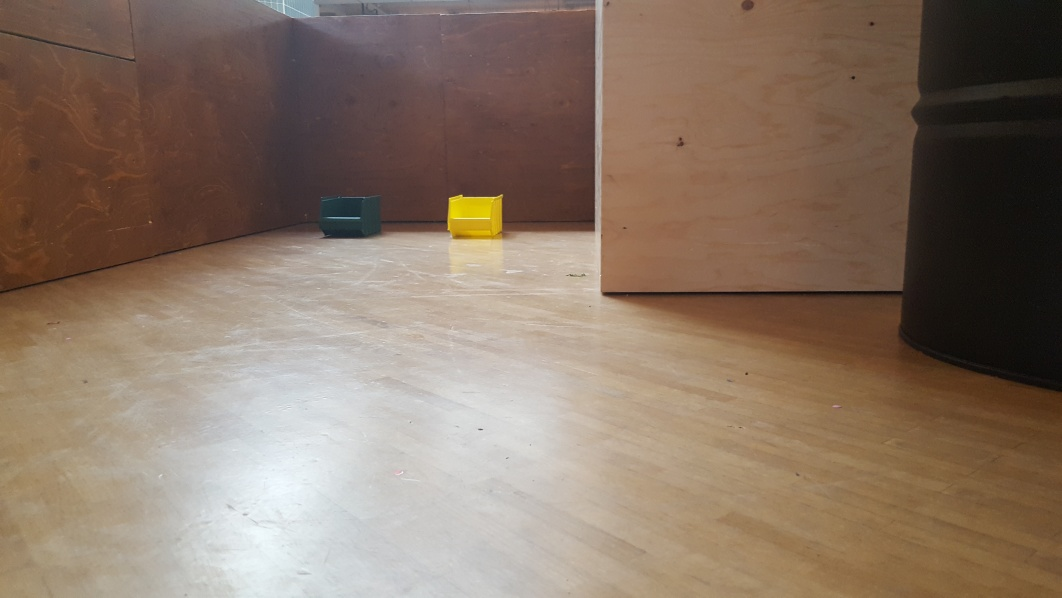tray: (446, 186, 507, 243), (318, 192, 381, 237)
